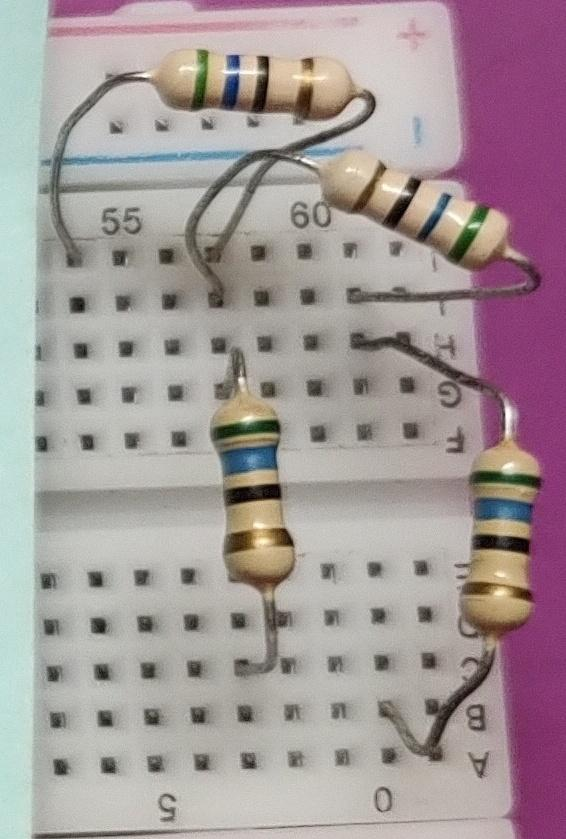resistor: (295, 139, 517, 276), (194, 389, 311, 602), (455, 429, 561, 649), (137, 36, 373, 122)
